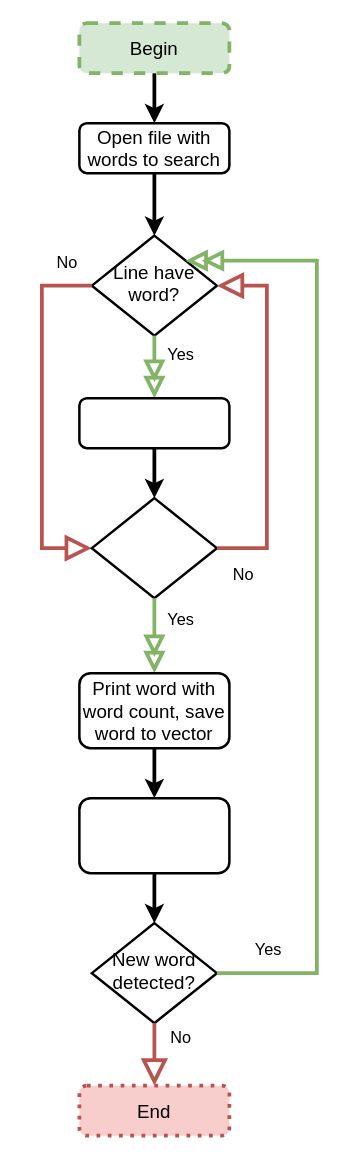
Image size: 355x1168. Some labels were removed from this diagram. The shapes that lost their labels are listed below. From the top down, each one's centre as x and y in pixels, then its label:
At point 154,422: "Increment word counter".
At point 154,547: "End of file?".
At point 154,835: "Find next unique word using word vector".
